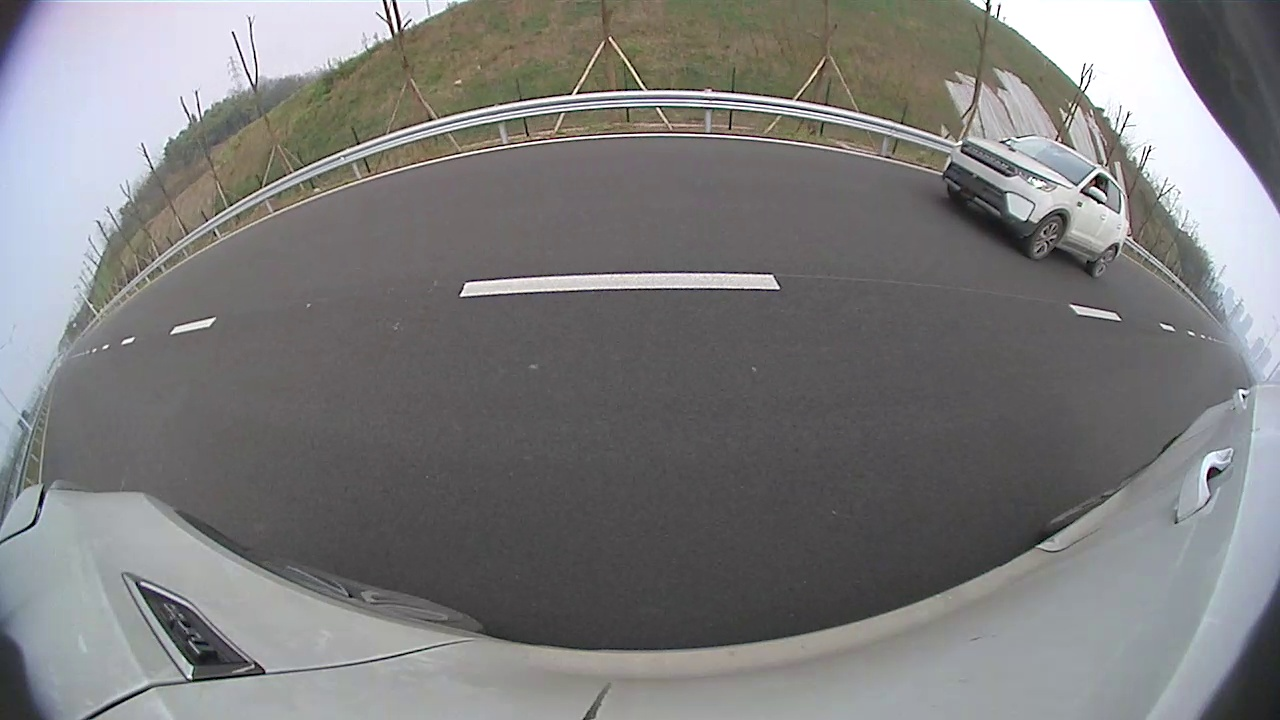car: (942, 137, 1130, 278)
front: (1029, 215, 1066, 262)
rear: (1092, 244, 1117, 280)
